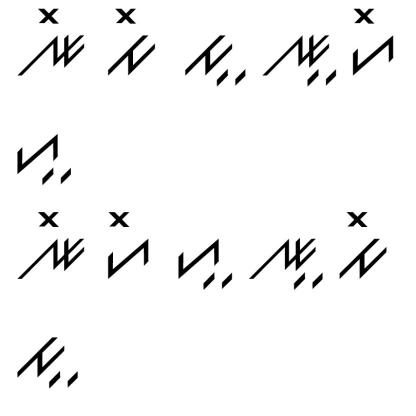hah: (8, 126, 80, 188), (170, 230, 236, 294)
ho: (101, 207, 156, 282), (350, 4, 400, 78)
mbah: (10, 332, 88, 393), (180, 26, 250, 93)
mbo: (99, 3, 160, 80), (337, 207, 394, 284)
ndah: (245, 231, 327, 297), (258, 26, 340, 89)
ndo: (12, 205, 88, 280), (16, 2, 87, 78)
